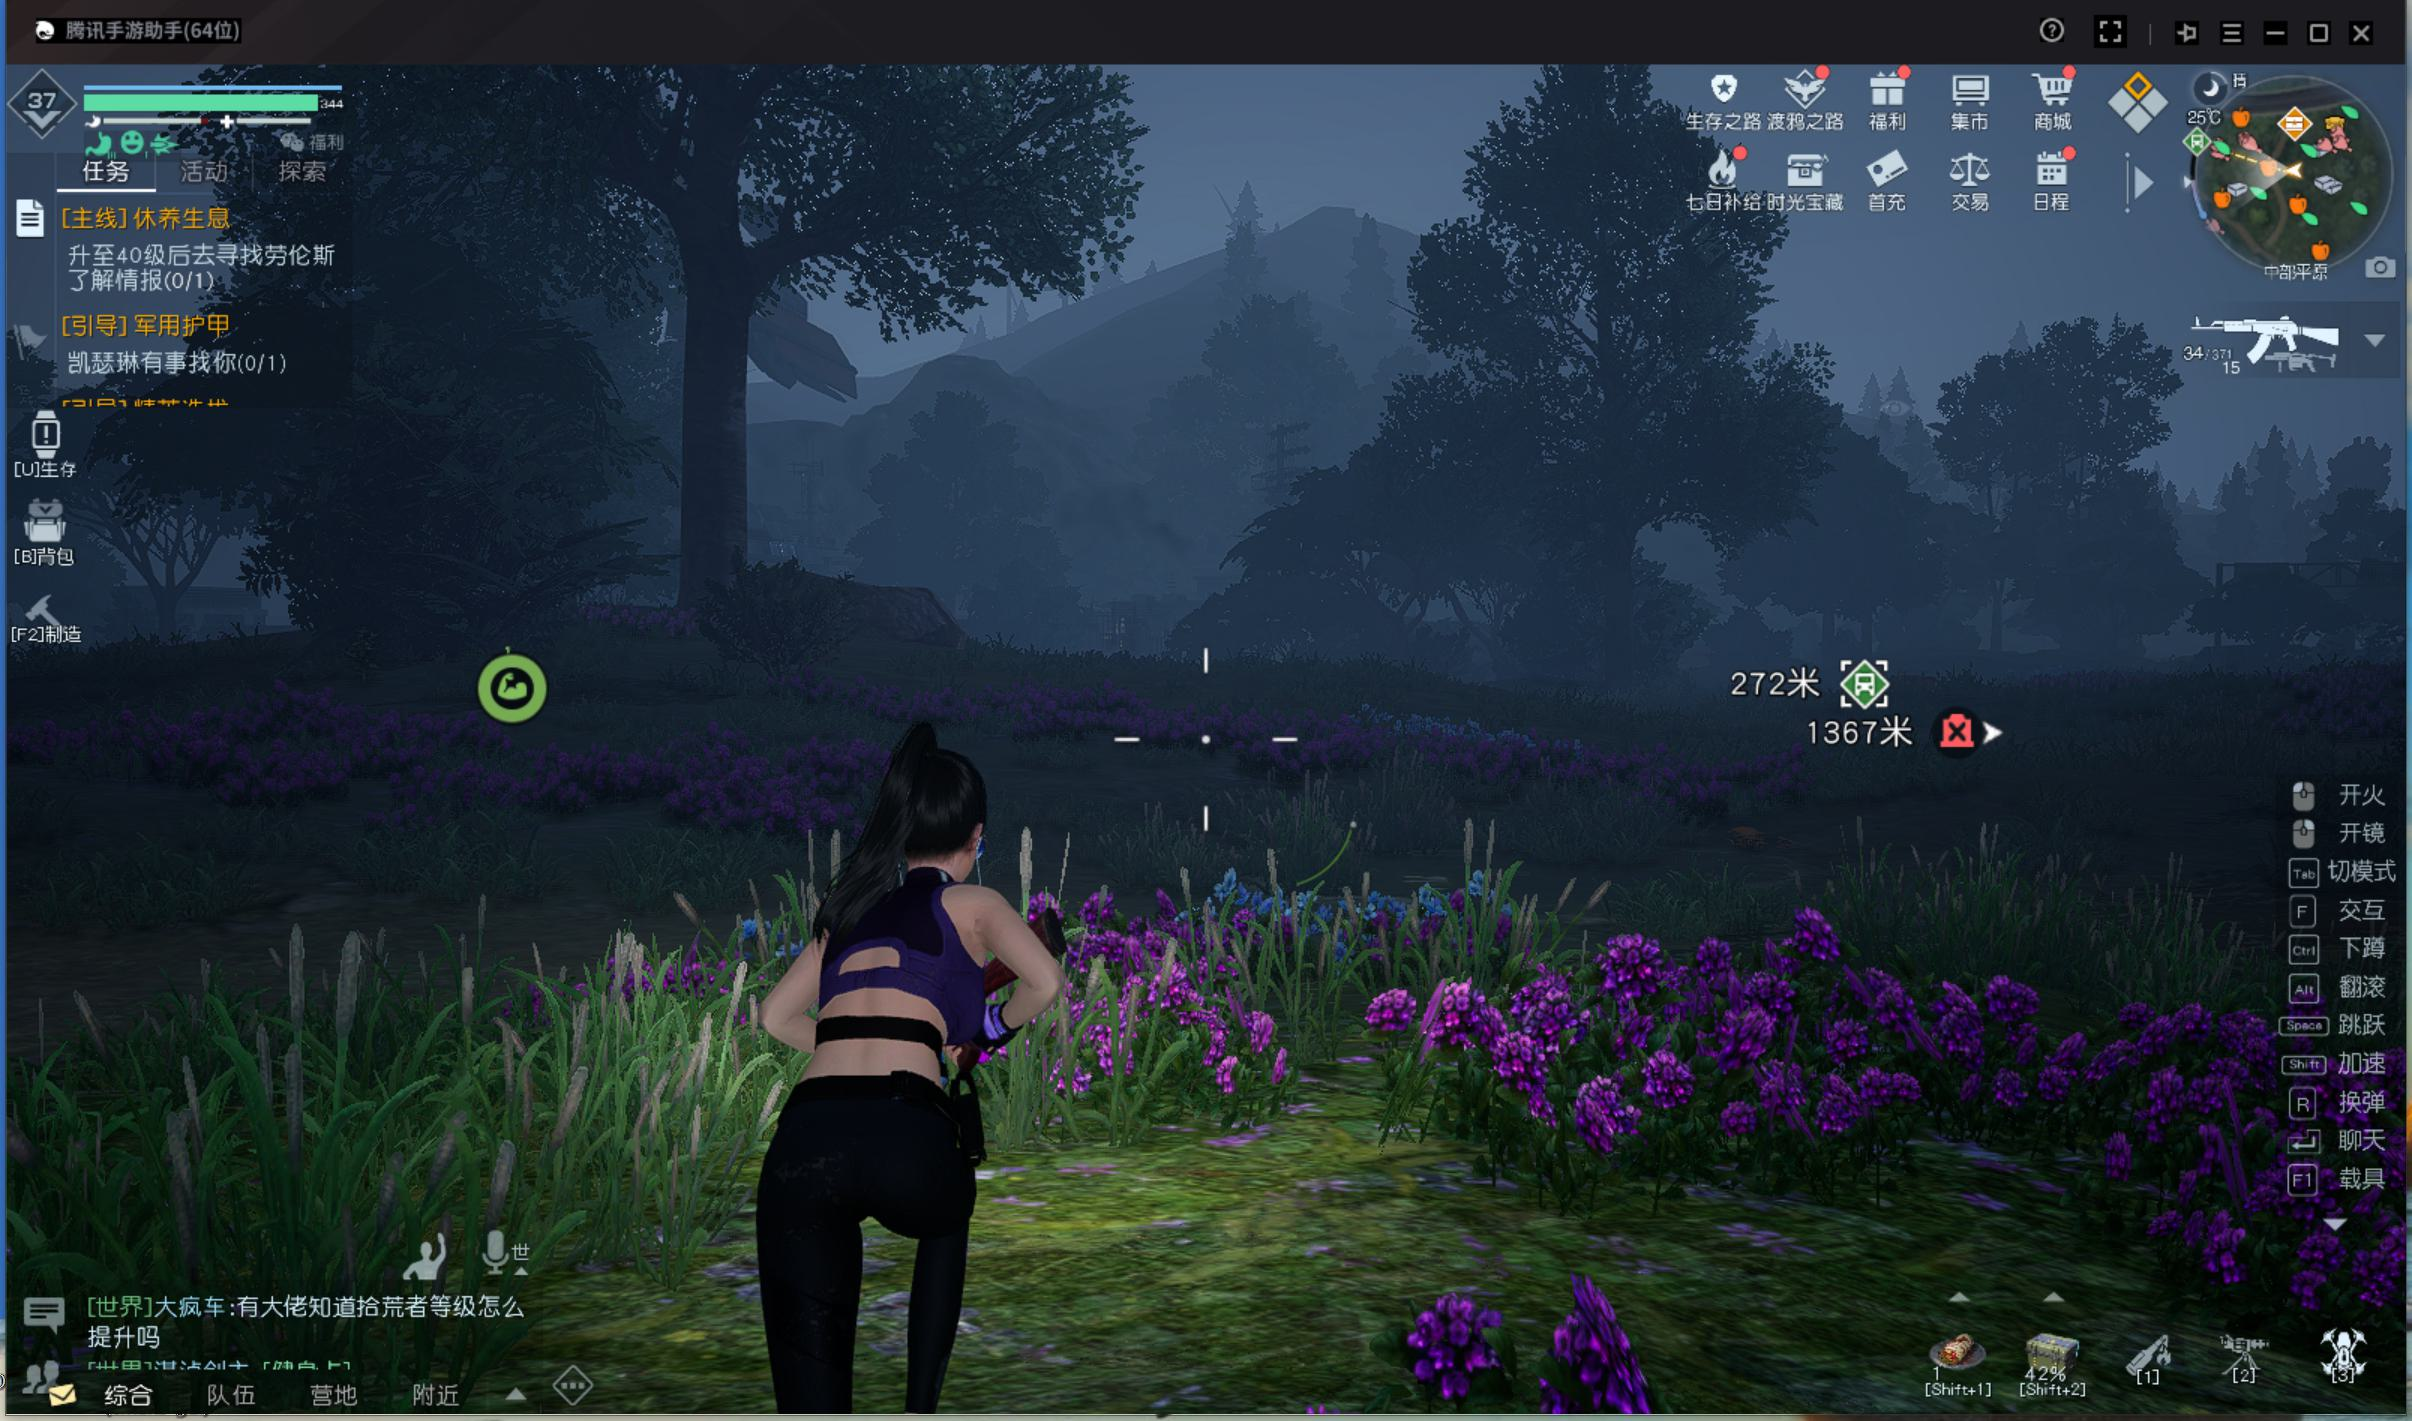tree: (666, 283, 758, 638)
